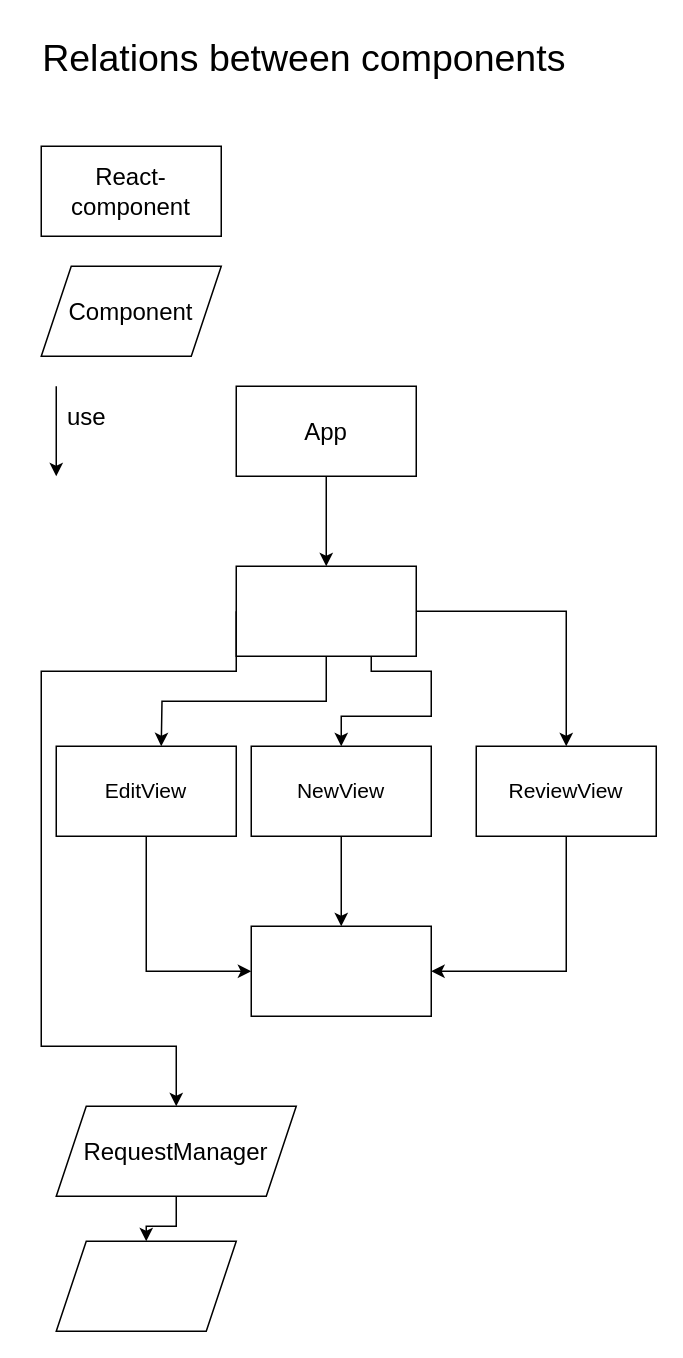
Image size: 683x1358. Some labels were removed from this diagram. Here are the shapes that lost their labels. From the top down, the centre of each, then its label:
At point 325,610: "ViewManager".
At point 340,970: "ErrowWrapper".
At point 145,1285: "Validator".
